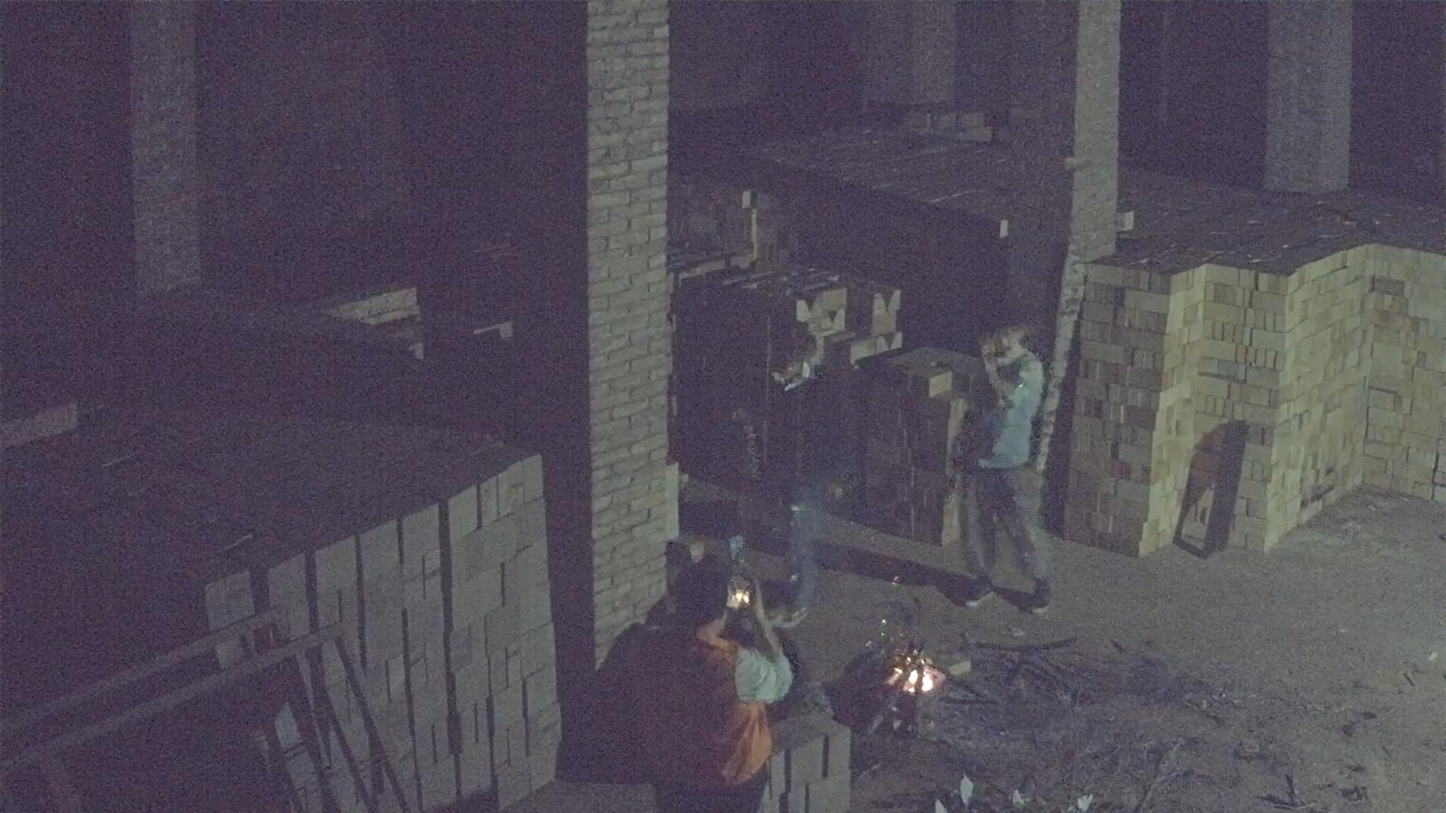fire: (886, 649, 944, 693)
